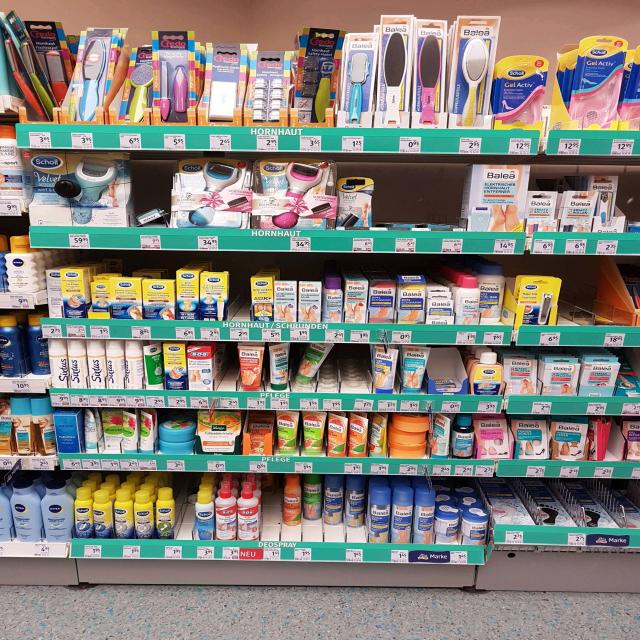unorganised: (1, 12, 66, 120), (280, 474, 367, 542), (297, 29, 343, 127), (294, 342, 333, 389), (22, 308, 48, 378), (264, 341, 297, 394), (480, 265, 507, 327), (122, 407, 154, 457), (592, 177, 621, 227), (589, 414, 613, 462), (97, 408, 122, 452), (432, 411, 451, 462), (368, 410, 388, 457), (143, 343, 164, 387), (80, 409, 99, 455)
